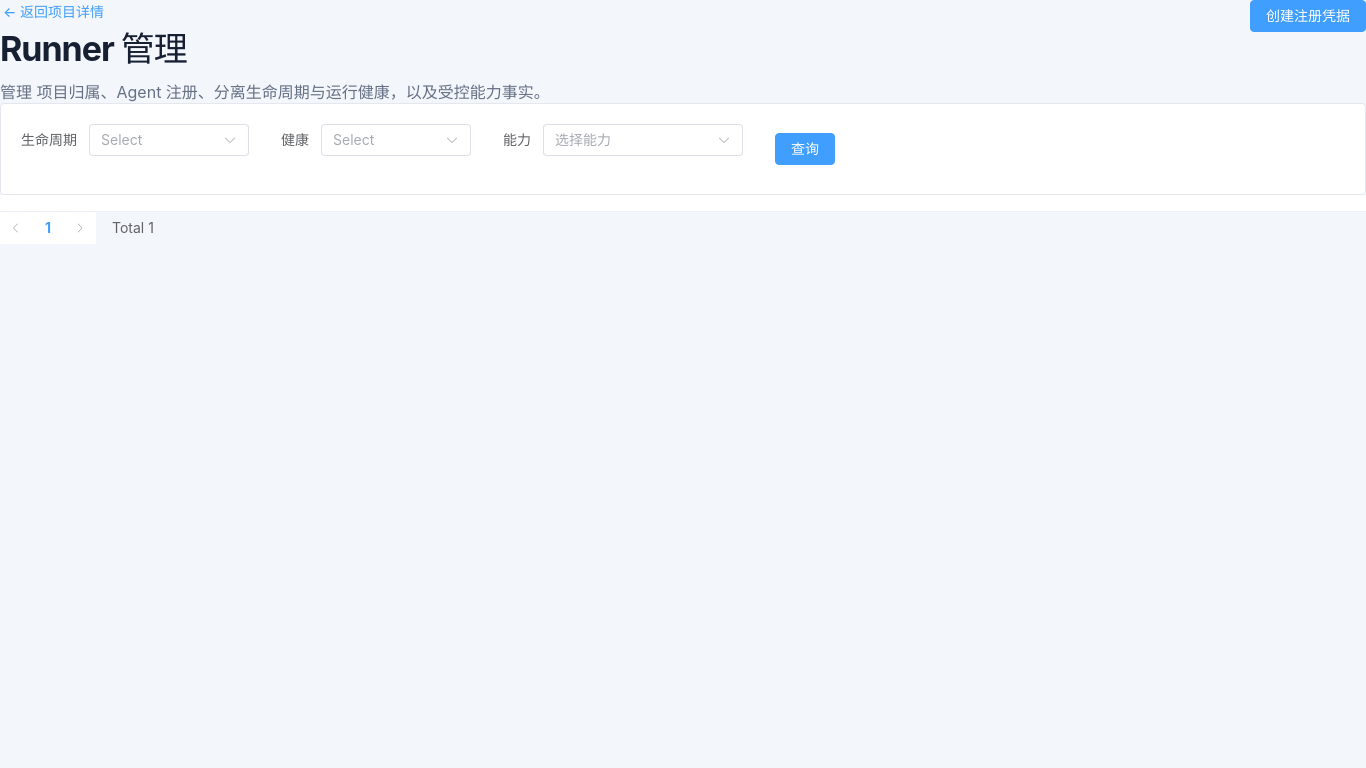
Scenario: Runner management view › creates a project-scoped enrollment and shows its credential once
The width and height of the screenshot is (1366, 768).
Click the button "创建注册凭据" at [1308, 16], box [1250,0,1365,32]
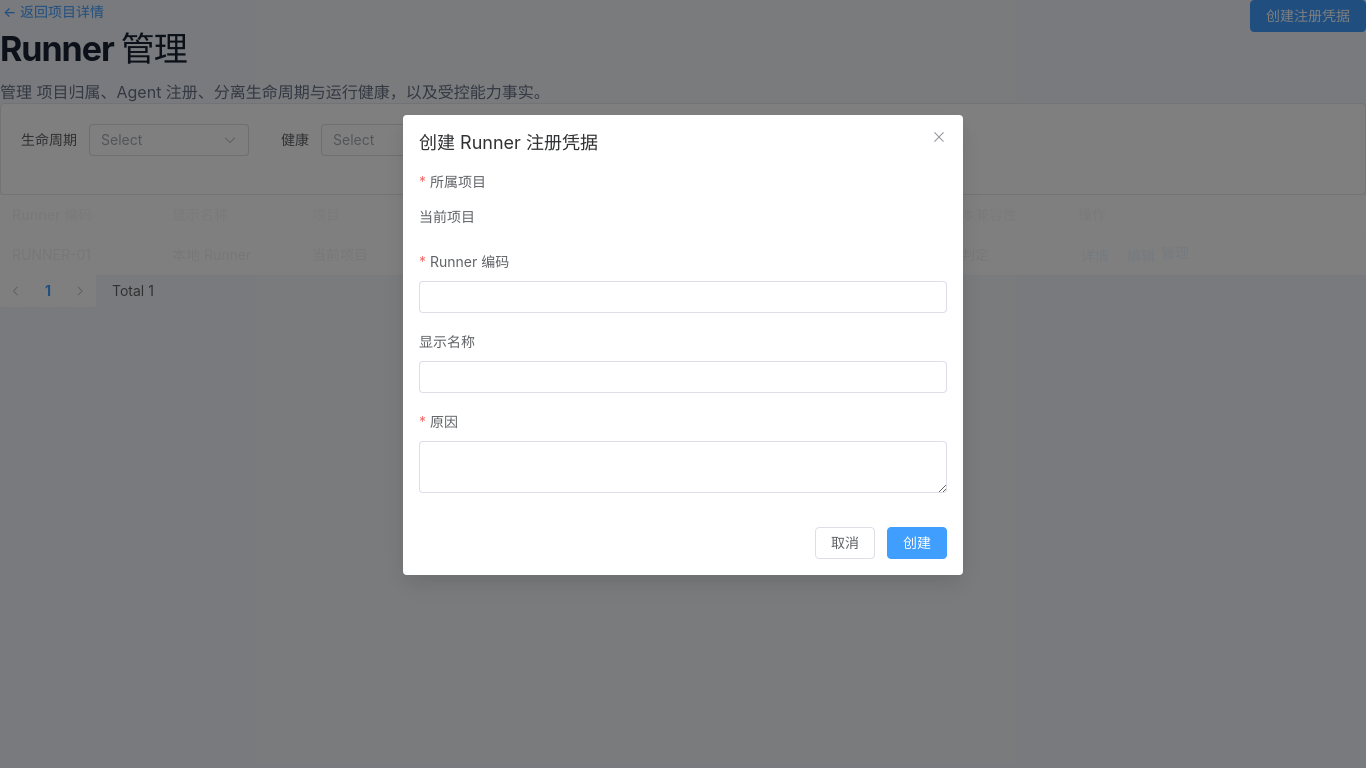
Type "RUNNER-02" into the field labelled "Runner 编码" at [683, 297], box [430,282,936,312]
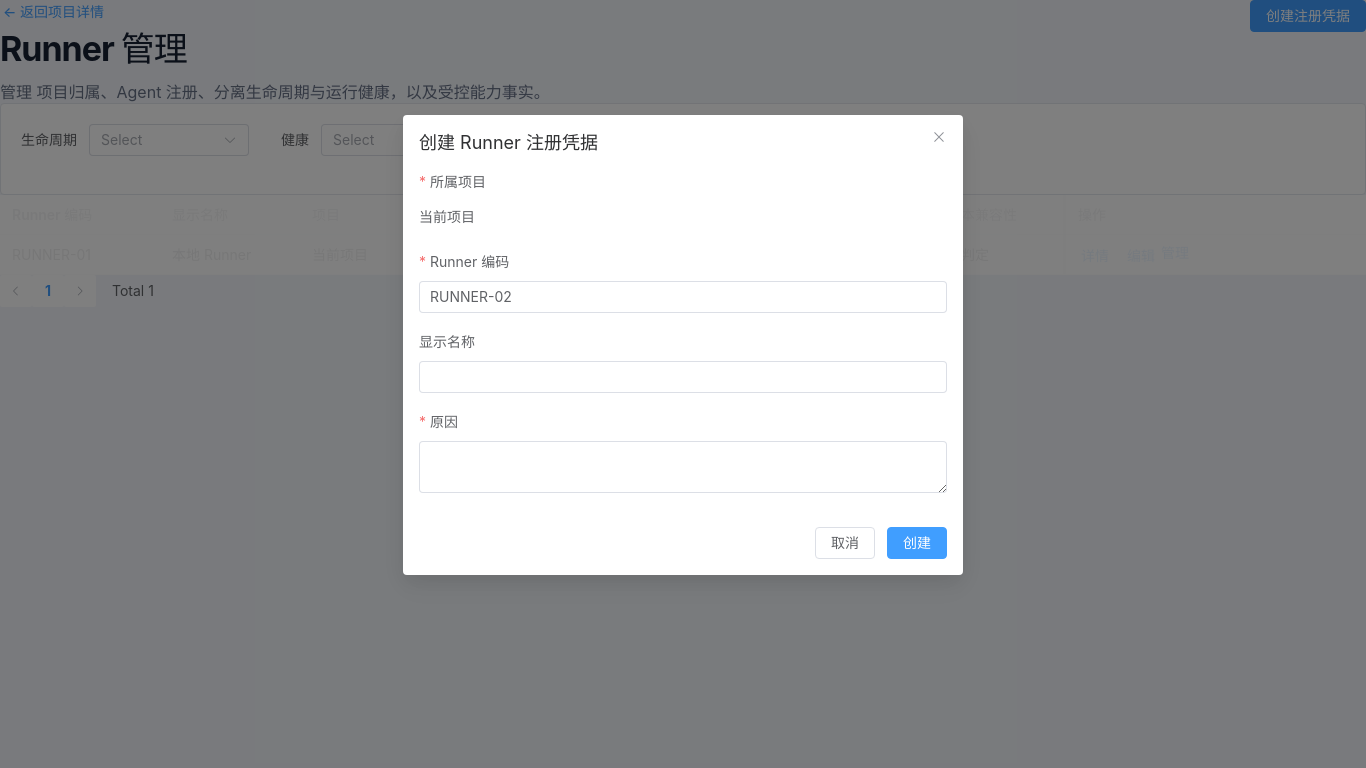
Type "bootstrap local runner" into the text box labelled "原因" at [683, 467], box [419,441,947,493]
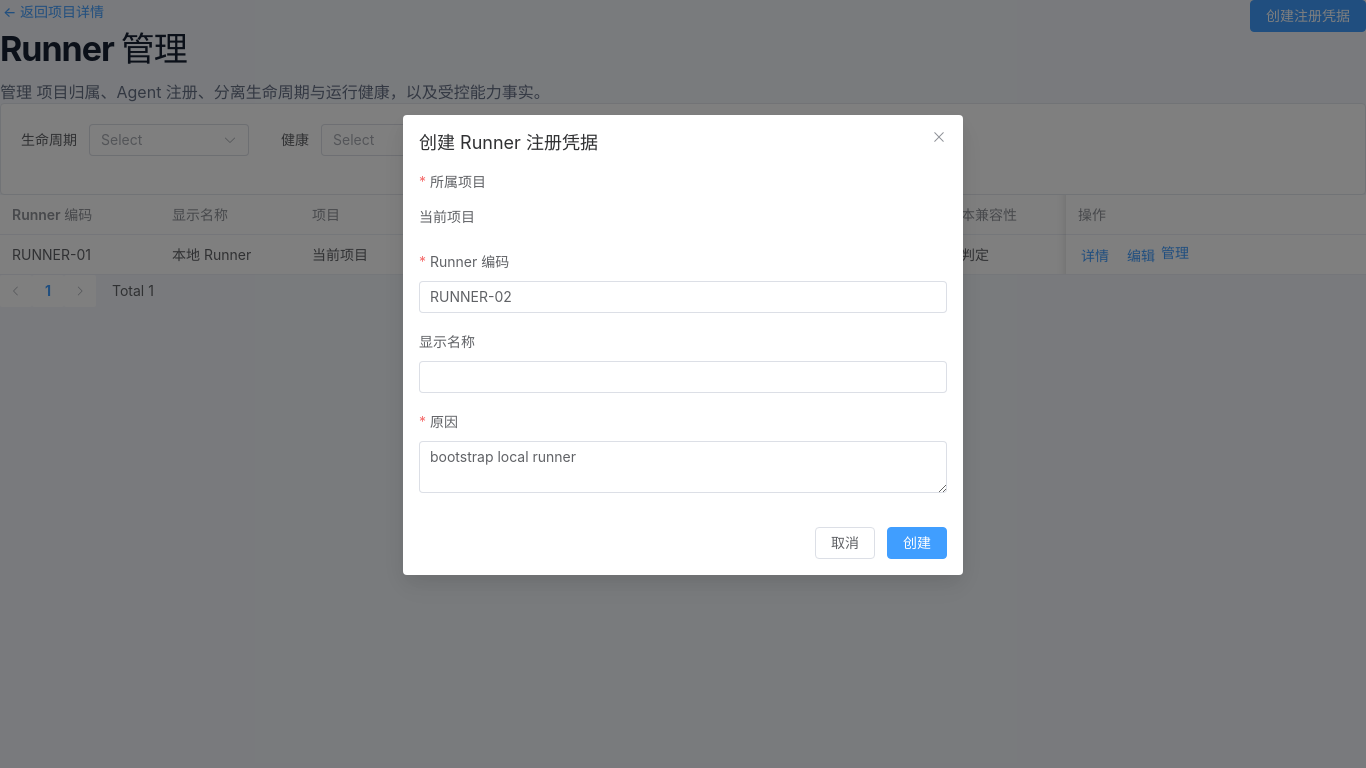
Click the button "创建" at [917, 543], box [887,527,947,559]
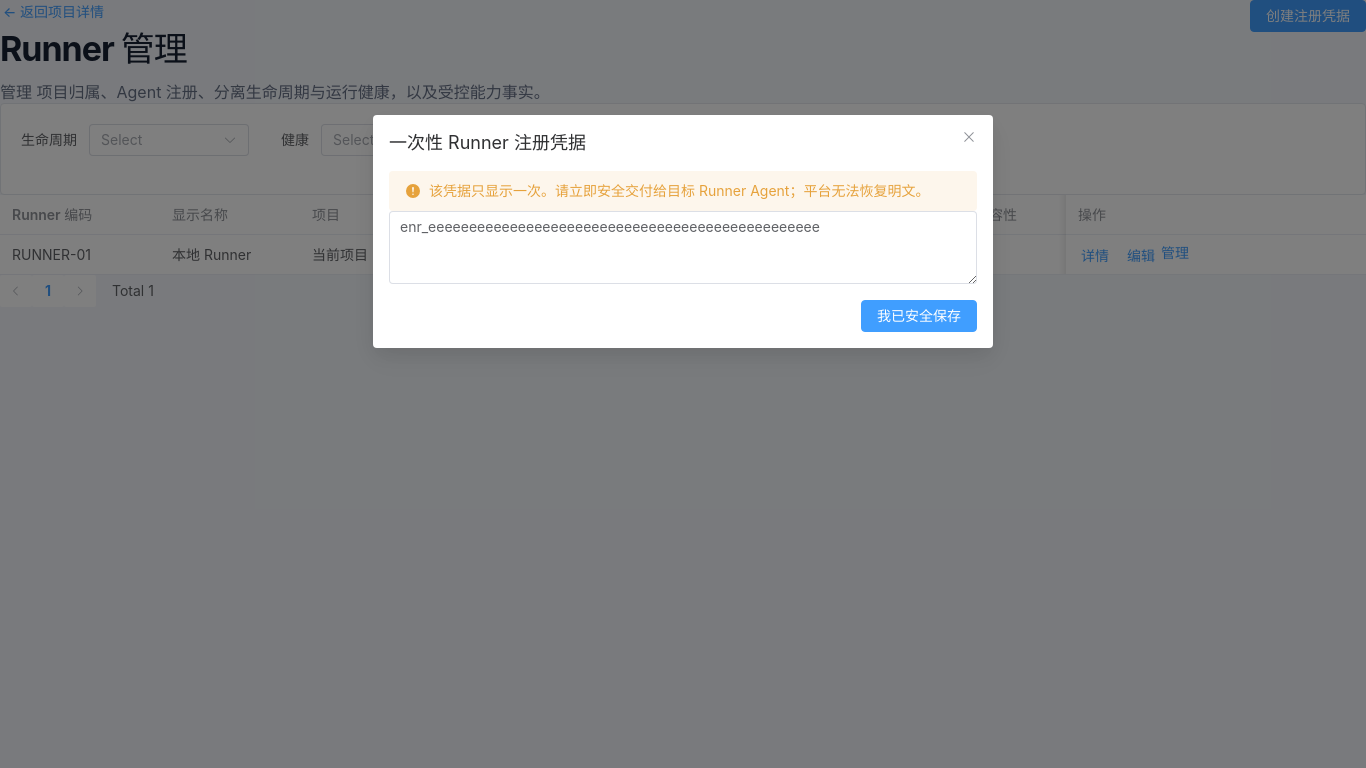
Check: the text "该凭据只显示一次。请立即安全交付给目标 Runner Agent；平台无法恢复明文。" is shown, box [429,179,929,203]
